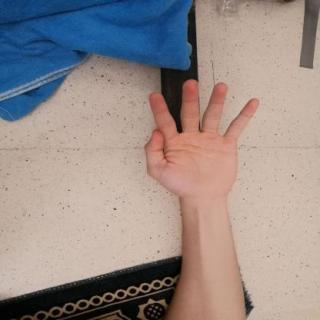SHEEN: (132, 76, 266, 206)
